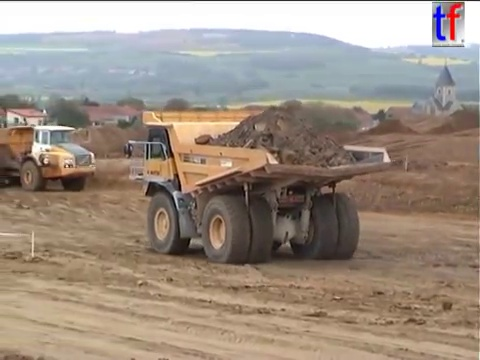truck: (121, 107, 397, 265), (1, 123, 98, 193)
